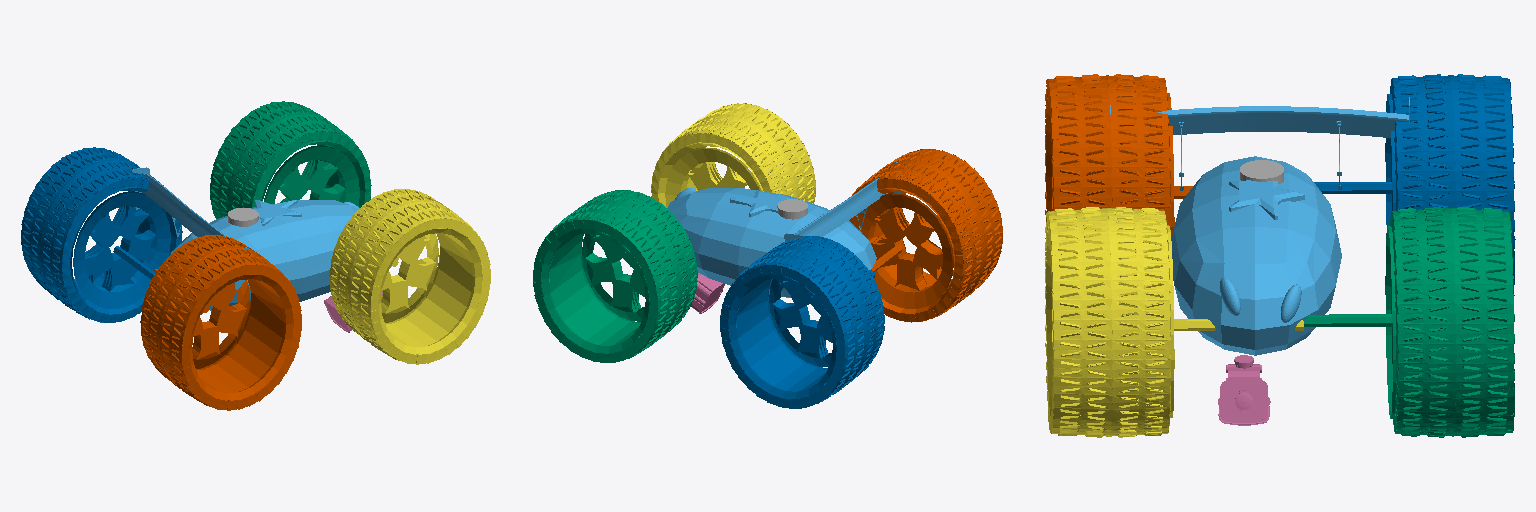
robot.urdf — piple:
<?xml version="1.0"?>
<robot name="piple">

  <!-- ======================================================= -->
  <!-- Base Footprint                                          -->
  <!-- ======================================================= -->

  <link name="base_footprint"/>

  <joint name="base_footprint_joint" type="fixed">
    <parent link="base_footprint"/>
    <child link="base_link"/>
    <origin xyz="0 0 0.080" rpy="0 0 0"/>
  </joint>

  <!-- ======================================================= -->
  <!-- Base Link                                                -->
  <!-- ======================================================= -->

  <link name="base_link">

    <visual>
      <origin xyz="0.02 -0.02 0" rpy="0 0 0"/>
      <geometry>
        <mesh filename="package://piple/meshes/piple_base_link.obj" scale="1 1 1"/>
      </geometry>
    </visual>

    <collision>
      <origin xyz="0 0 0" rpy="0 0 0"/>
      <geometry>
        <box size="0.30 0.25 0.10"/>
      </geometry>
    </collision>

    <inertial>
      <origin xyz="0 0 0" rpy="0 0 0"/>
      <mass value="2.5"/>
      <inertia ixx="0.020" ixy="0" ixz="0" iyy="0.040" iyz="0" izz="0.050"/>
    </inertial>

  </link>

  <!-- ======================================================= -->
  <!-- Front Left Wheel                                        -->
  <!-- ======================================================= -->

  <link name="front_left_wheel_link">
    <visual>
      <origin xyz="0 0 0" rpy="0 0 0"/>
      <geometry>
       <mesh filename="package://piple/meshes/front_left_wheel_link.obj" scale="1 1 1"/>
      </geometry>
    </visual>

    <collision>
      <origin xyz="0 0 0" rpy="1.57079632679 0 0"/>
      <geometry>
        <cylinder radius="0.0795" length="0.045"/>
      </geometry>
    </collision>

    <inertial>
      <origin xyz="0 0 0" rpy="0 0 0"/>
      <mass value="0.25"/>
      <inertia ixx="0.00043" ixy="0" ixz="0" iyy="0.00079" iyz="0" izz="0.00043"/>
    </inertial>
  </link>

  <!-- ======================================================= -->
  <!-- Front Right Wheel                                       -->
  <!-- ======================================================= -->

  <link name="front_right_wheel_link">
    <visual>
      <origin xyz="0 0 0" rpy="0 0 0"/>
      <geometry>
        <mesh filename="package://piple/meshes/front_right_wheel_link.obj" scale="1 1 1"/>
      </geometry>
    </visual>

    <collision>
      <origin xyz="0 0 0" rpy="1.57079632679 0 0"/>
      <geometry>
        <cylinder radius="0.0795" length="0.045"/>
      </geometry>
    </collision>

    <inertial>
      <origin xyz="0 0 0" rpy="0 0 0"/>
      <mass value="0.25"/>
      <inertia ixx="0.00043" ixy="0" ixz="0" iyy="0.00079" iyz="0" izz="0.00043"/>
    </inertial>
  </link>

  <!-- ======================================================= -->
  <!-- Rear Left Wheel                                         -->
  <!-- ======================================================= -->

  <link name="rear_left_wheel_link">
    <visual>
      <origin xyz="0 0 0" rpy="0 0 0"/>
      <geometry>
        <mesh filename="package://piple/meshes/rear_left_wheel_link.obj" scale="1 1 1"/>
      </geometry>
    </visual>

    <collision>
      <origin xyz="0 0 0" rpy="1.57079632679 0 0"/>
      <geometry>
        <cylinder radius="0.0795" length="0.045"/>
      </geometry>
    </collision>

    <inertial>
      <origin xyz="0 0 0" rpy="0 0 0"/>
      <mass value="0.25"/>
      <inertia ixx="0.00043" ixy="0" ixz="0" iyy="0.00079" iyz="0" izz="0.00043"/>
    </inertial>
  </link>

  <!-- ======================================================= -->
  <!-- Rear Right Wheel                                        -->
  <!-- ======================================================= -->

  <link name="rear_right_wheel_link">
    <visual>
      <origin xyz="0 0 0" rpy="0 0 0"/>
      <geometry>
        <mesh filename="package://piple/meshes/rear_right_wheel_link.obj" scale="1 1 1"/>
      </geometry>
    </visual>

    <collision>
      <origin xyz="0 0 0" rpy="1.57079632679 0 0"/>
      <geometry>
        <cylinder radius="0.0795" length="0.045"/>
      </geometry>
    </collision>

    <inertial>
      <origin xyz="0 0 0" rpy="0 0 0"/>
      <mass value="0.25"/>
      <inertia ixx="0.00043" ixy="0" ixz="0" iyy="0.00079" iyz="0" izz="0.00043"/>
    </inertial>
  </link>

  <!-- ======================================================= -->
  <!-- Wheel Joints                                            -->
  <!-- ======================================================= -->
   <joint name="camera_joint" type="fixed">
    <parent link="base_link"/>
    <child link="camera_link"/>
    <origin xyz="0.3 -0.04 -0.16700" rpy="0 0 0"/>
  </joint>

  <joint name="front_left_wheel_joint" type="continuous">
      <parent link="base_link"/>
      <child link="front_left_wheel_link"/>
      <origin xyz="0.30 0.19 -0.08" rpy="0 0 0"/>
      <axis xyz="0 1 0"/>
      <limit effort="60" velocity="30"/>
  </joint>

  <joint name="front_right_wheel_joint" type="continuous">
      <parent link="base_link"/>
      <child link="front_right_wheel_link"/>
      <origin xyz="0.30 -0.19 -0.08" rpy="0 0 0"/>
      <axis xyz="0 1 0"/>
      <limit effort="60" velocity="30"/>
  </joint>

  <joint name="rear_left_wheel_joint" type="continuous">
      <parent link="base_link"/>
      <child link="rear_left_wheel_link"/>
      <origin xyz="-0.05 0.19 -0.08" rpy="0 0 0"/>
      <axis xyz="0 1 0"/>
      <limit effort="60" velocity="30"/>
  </joint>

  <joint name="rear_right_wheel_joint" type="continuous">
      <parent link="base_link"/>
      <child link="rear_right_wheel_link"/>
      <origin xyz="-0.05 -0.19 -0.08" rpy="0 0 0"/>
      <axis xyz="0 1 0"/>
      <limit effort="60" velocity="30"/>
  </joint>



<!-- ======================================================= -->
<!-- Camera Link                                              -->
<!-- ======================================================= -->

  <link name="camera_link">

    <visual>
      <geometry>
        <mesh filename="package://piple/meshes/camera.obj" scale="1 1 1"/>
      </geometry>
    </visual>

    <collision>
      <geometry>
        <box size="0.03 0.03 0.03"/>
      </geometry>
    </collision>

    <inertial>
      <mass value="0.05"/>

        <origin xyz="0 0 0"/>

      <inertia
        ixx="0.00001"
        iyy="0.00001"
        izz="0.00001"
        ixy="0"
        ixz="0"
        iyz="0"/>
      </inertial>

    </link>
  
  <!-- ======================================================= -->
  <!-- LIDAR                                                    -->
  <!-- ======================================================= -->

  <link name="lidar_link">

    <visual>
      <geometry>
        <cylinder radius="0.025" length="0.02"/>
      </geometry>
    </visual>

    <collision>
      <geometry>
        <cylinder radius="0.025" length="0.02"/>
      </geometry>
    </collision>

    <inertial>
      <origin xyz="0 0 0"/>
      <mass value="0.05"/>

      <inertia
        ixx="0.00001"
        iyy="0.00001"
        izz="0.00001"
        ixy="0"
        ixz="0"
        iyz="0"/>
    </inertial>

  </link>

  <joint name="lidar_joint" type="fixed">
    <parent link="base_link"/>
    <child link="lidar_link"/>
    <origin xyz="0.09 -0.02 0.0003" rpy="0 0 0"/>
  </joint>


  <!-- ======================================================= -->
  <!-- ROS2 Control                                             -->
  <!-- ======================================================= -->

  <ros2_control name="GazeboSimSystem" type="system">
    <hardware>
      <plugin>gz_ros2_control/GazeboSimSystem</plugin>
    </hardware>

    <joint name="front_left_wheel_joint">
      <command_interface name="velocity"/>
      <state_interface name="position"/>
      <state_interface name="velocity"/>
    </joint>

    <joint name="front_right_wheel_joint">
      <command_interface name="velocity"/>
      <state_interface name="position"/>
      <state_interface name="velocity"/>
    </joint>

    <joint name="rear_left_wheel_joint">
      <command_interface name="velocity"/>
      <state_interface name="position"/>
      <state_interface name="velocity"/>
    </joint>

    <joint name="rear_right_wheel_joint">
      <command_interface name="velocity"/>
      <state_interface name="position"/>
      <state_interface name="velocity"/>
    </joint>
  </ros2_control>

  <!-- ======================================================= -->
  <!-- Gazebo Plugin                                           -->
  <!-- ======================================================= -->

  <gazebo>
    <plugin filename="gz_ros2_control-system" name="gz_ros2_control::GazeboSimROS2ControlPlugin">
      <parameters>/home/raempest/Raempest/piple_ws/src/piple/config/controllers.yaml</parameters>
    </plugin>
  </gazebo>

  <gazebo reference="camera_link">

  <sensor name="camera" type="camera">
    <update_rate>45</update_rate>
      <visualize>true</visualize>
      <topic>camera</topic>
    <camera>
      <horizontal_fov>1.5707</horizontal_fov>
      <image>
        <width>640</width>
        <height>480</height>
        <format>R8G8B8</format>
      </image>
      <clip>
        <near>0.05</near>
        <far>100.0</far>
      </clip>
    </camera>
    <always_on>true</always_on>
    <visualize>true</visualize>
  </sensor>
</gazebo>

  <!-- ======================================================= -->
  <!-- Gazebo LiDAR                                             -->
  <!-- ======================================================= -->

  <gazebo reference="lidar_link">

    <sensor name="lidar" type="gpu_lidar">

      <update_rate>10</update_rate>

      <topic>/piple/lidar/scan</topic>

      <ray>
        <scan>
          <horizontal>
            <samples>360</samples>
            <resolution>1</resolution>
            <min_angle>-3.14159</min_angle>
            <max_angle>3.14159</max_angle>
          </horizontal>
        </scan>

        <range>
          <min>0.12</min>
          <max>10.0</max>
          <resolution>0.01</resolution>
        </range>
      </ray>

      <always_on>true</always_on>
      <visualize>true</visualize>

    </sensor>

  </gazebo>

</robot>

--- Facts derived from the render (not from the file) ---
Views: 3 orthographic renders of the robot side by side, from view 1: azimuth 30°, elevation 25°; view 2: azimuth 150°, elevation 25°; view 3: azimuth 270°, elevation 25°.
Robot: piple — 8 links, 7 joints (4 continuous, 3 fixed); root link base_footprint; default pose: all joints at 0.
Links seen in each view (by area): view 1: front_right_wheel_link, rear_right_wheel_link, rear_left_wheel_link, front_left_wheel_link, base_link; view 2: rear_left_wheel_link, front_left_wheel_link, rear_right_wheel_link, base_link, front_right_wheel_link, camera_link; view 3: base_link, front_left_wheel_link, front_right_wheel_link, rear_left_wheel_link, rear_right_wheel_link, camera_link, lidar_link.
Link boxes in pixels (x1,y1,x2,y2): front_right_wheel_link: (329,189,490,364); rear_right_wheel_link: (140,235,301,410); rear_left_wheel_link: (21,147,182,322); front_left_wheel_link: (210,101,371,218); base_link: (132,167,359,310); rear_left_wheel_link: (720,236,884,408); front_left_wheel_link: (533,190,697,362); rear_right_wheel_link: (849,149,1002,322); base_link: (667,162,905,297); front_right_wheel_link: (651,103,815,207); camera_link: (691,273,724,313); base_link: (1110,97,1409,355); front_left_wheel_link: (1304,207,1514,437); front_right_wheel_link: (1045,207,1303,437); rear_left_wheel_link: (1314,74,1515,293); rear_right_wheel_link: (1045,74,1192,240); camera_link: (1218,355,1270,425); lidar_link: (1240,160,1283,183).
Bounding box of the posed robot: 0.5874 × 0.5251 × 0.2756 m (x, y, z).
Meshes: 6 distinct files referenced, 6 mesh visuals loaded (6 OBJ).
